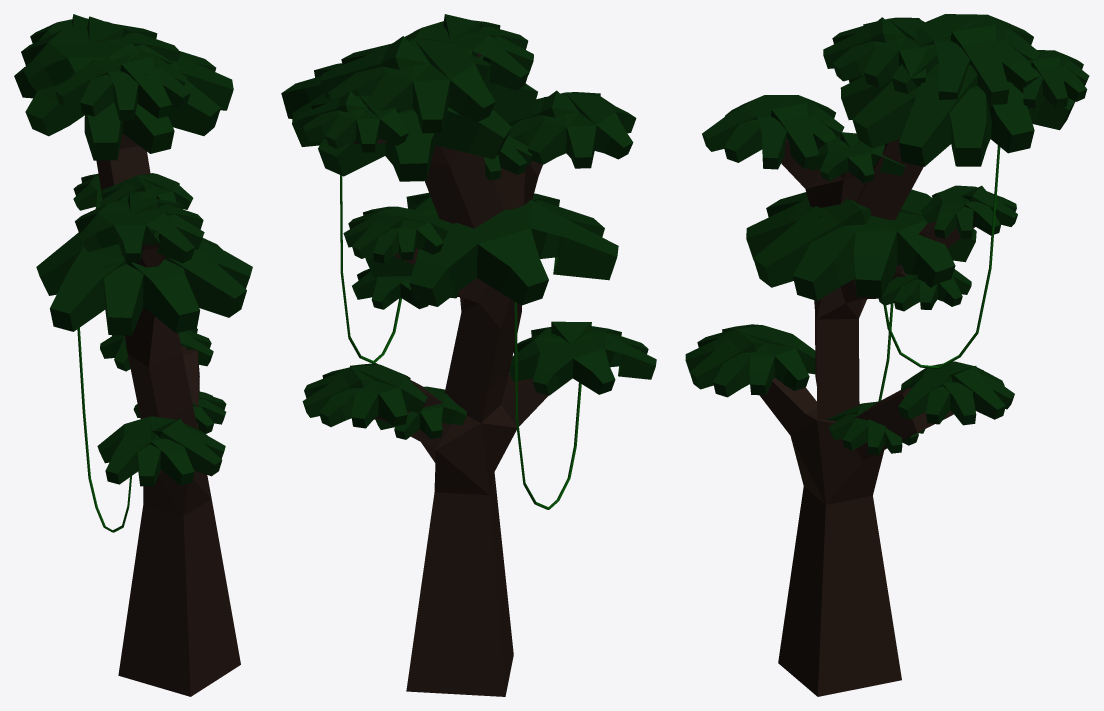
File: jungleTree2.fbx
3 renders of one model, left to right at view 1: azimuth 30°, elevation 25°; view 2: azimuth 150°, elevation 25°; view 3: azimuth 270°, elevation 25°, orthographic. The views are drawn at different scales.
Visible parts, largest first — view 1: Cube, Cube.012, Cube.011, Cube.003, Cube.008, Cube.007, Cube.010, Cube.006, Cube.001, Cube.002, Cube.013, Cube.005 (+1 smaller); view 2: Cube, Cube.012, Cube.010, Cube.011, Cube.003, Cube.007, Cube.001, Cube.009, Cube.005, Cube.008, Cube.002, Cube.004 (+3 smaller); view 3: Cube, Cube.012, Cube.011, Cube.010, Cube.003, Cube.007, Cube.001, Cube.008, Cube.005, Cube.009, Cube.006, Cube.002 (+2 smaller).
Part boxes in pixels (x1,y1,x2,y2): Cube: [96, 133, 240, 696]; Cube.012: [36, 232, 252, 335]; Cube.011: [14, 51, 233, 160]; Cube.003: [97, 416, 225, 486]; Cube.008: [55, 49, 190, 120]; Cube.007: [75, 192, 204, 263]; Cube.010: [21, 16, 180, 90]; Cube.006: [100, 173, 193, 209]; Cube.001: [100, 328, 213, 371]; Cube.002: [133, 391, 226, 433]; Cube.013: [77, 327, 131, 532]; Cube.005: [73, 173, 102, 210]; Cube: [354, 53, 548, 696]; Cube.012: [365, 192, 618, 306]; Cube.010: [320, 36, 496, 133]; Cube.011: [281, 63, 537, 181]; Cube.003: [509, 321, 656, 395]; Cube.007: [506, 90, 636, 168]; Cube.001: [302, 363, 427, 428]; Cube.009: [298, 91, 408, 152]; Cube.005: [343, 206, 448, 263]; Cube.008: [392, 14, 533, 90]; Cube.002: [375, 383, 466, 439]; Cube.004: [352, 268, 458, 309]; Cube: [760, 139, 975, 696]; Cube.012: [746, 189, 976, 300]; Cube.011: [840, 63, 1075, 166]; Cube.010: [891, 14, 1040, 106]; Cube.003: [685, 324, 815, 397]; Cube.007: [702, 95, 844, 169]; Cube.001: [898, 361, 1014, 425]; Cube.008: [823, 17, 927, 87]; Cube.005: [920, 185, 1017, 238]; Cube.009: [1011, 50, 1089, 108]; Cube.006: [808, 132, 905, 183]; Cube.002: [826, 401, 925, 455].
Bounding box in the file's own units: 276 × 704 × 403.
